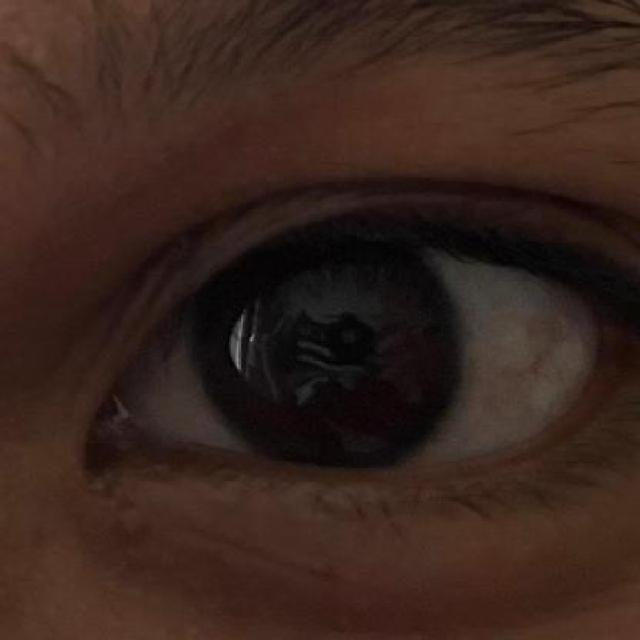Normal: (185, 208, 462, 483)
